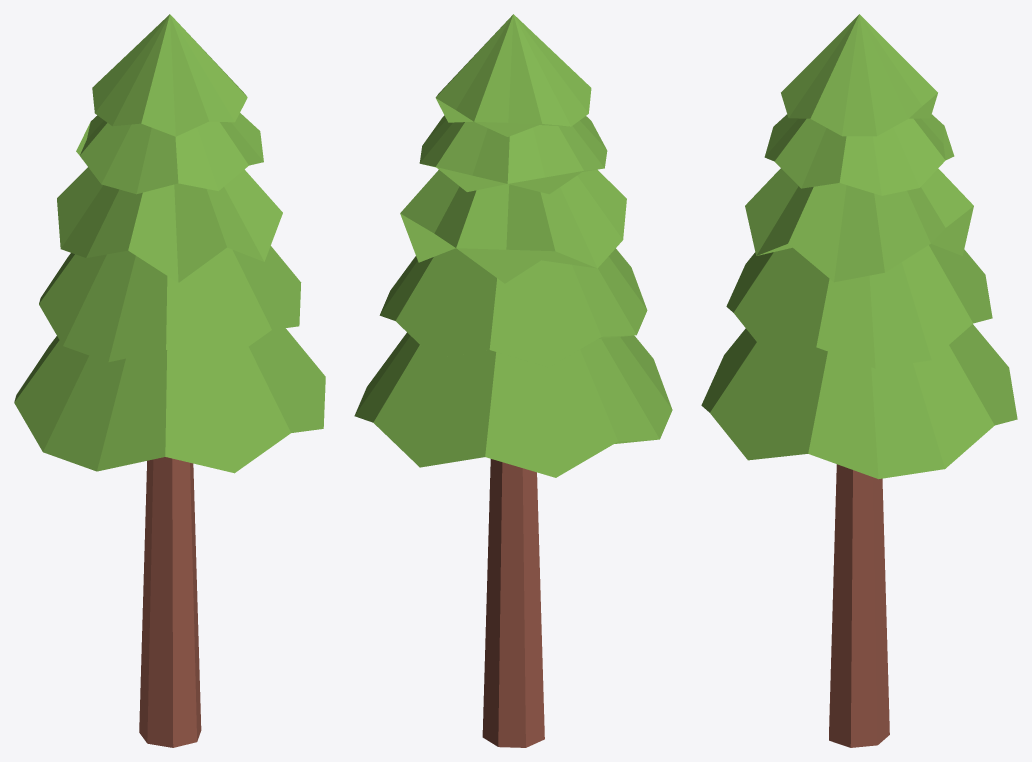
File: tree_3.fbx
3 renders of one model, left to right at view 1: azimuth 30°, elevation 25°; view 2: azimuth 150°, elevation 25°; view 3: azimuth 270°, elevation 25°, orthographic.
Visible parts, largest first — view 1: Cone.001; view 2: Cone.001; view 3: Cone.001.
Boxes of the visible parts, <box> form: Cone.001: <box>14,14,325,747</box>; Cone.001: <box>354,14,672,747</box>; Cone.001: <box>701,14,1017,747</box>.
Bounding box in the file's own units: 176 × 443 × 176.
